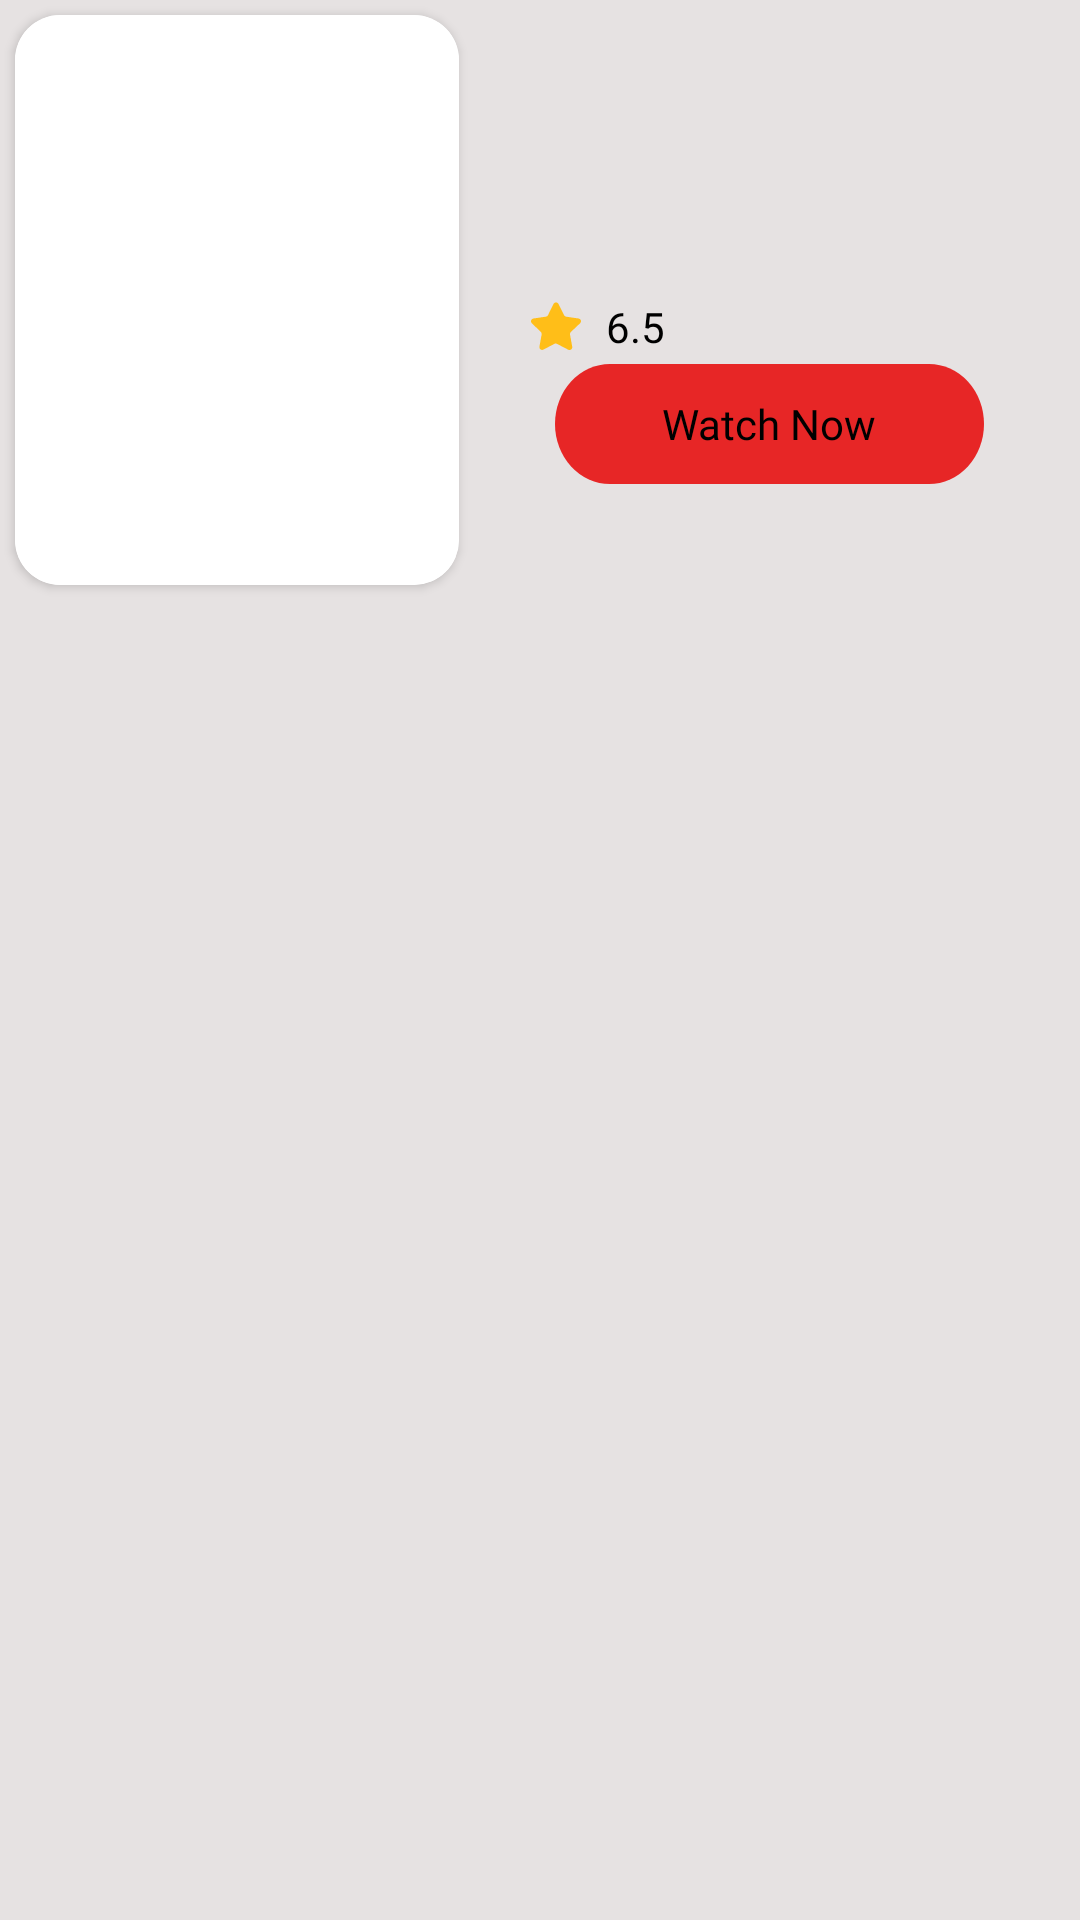

Screen size 1080 × 1920. Icon name, then its box in pixels as [x1, y1, x2, y2]:
star: [531, 302, 581, 350]
